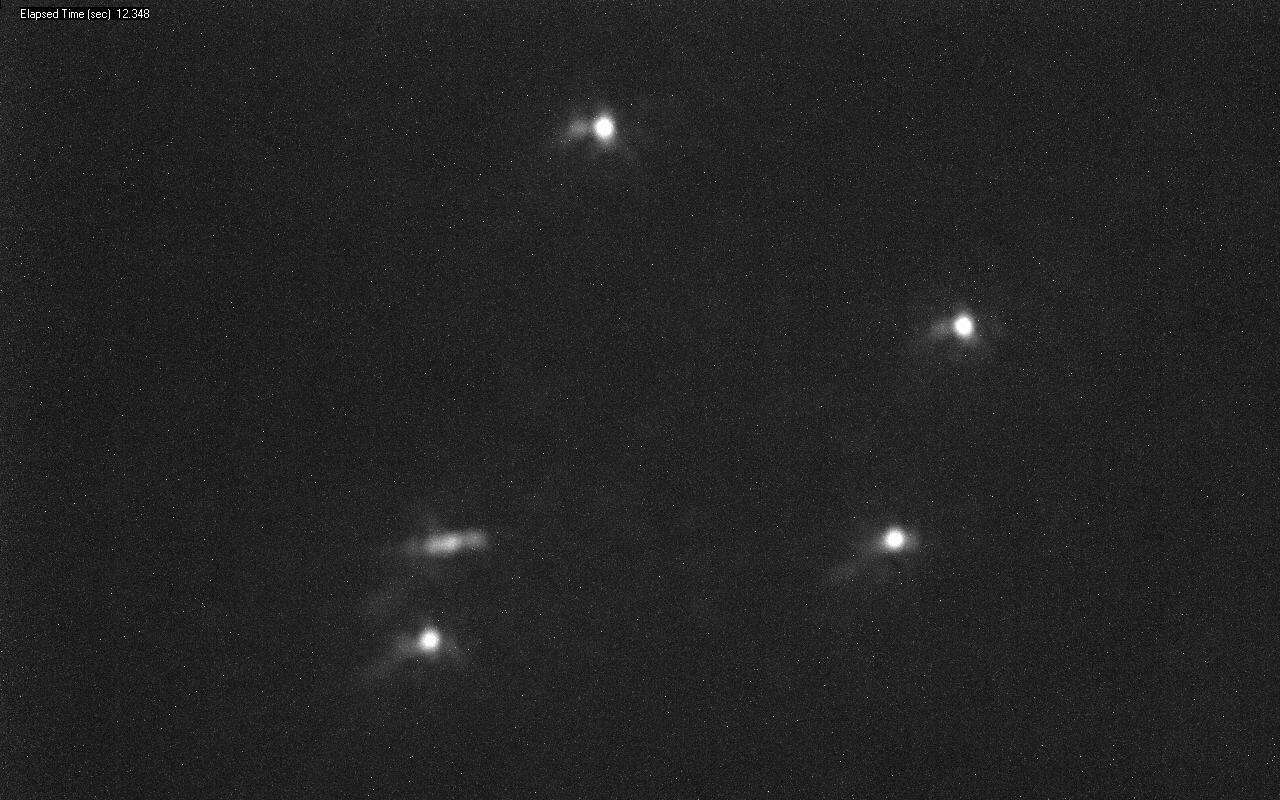Bead: (951, 313, 974, 338), (418, 627, 440, 651), (886, 529, 904, 549), (595, 116, 611, 137)
